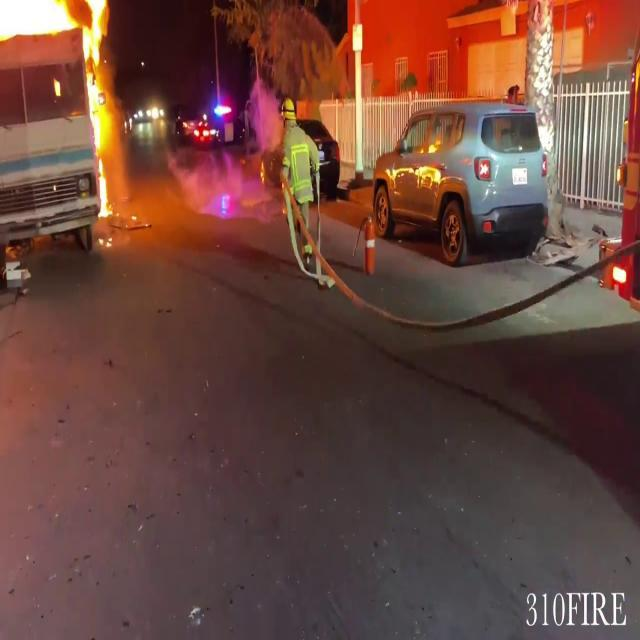Fire: (68, 0, 123, 212)
